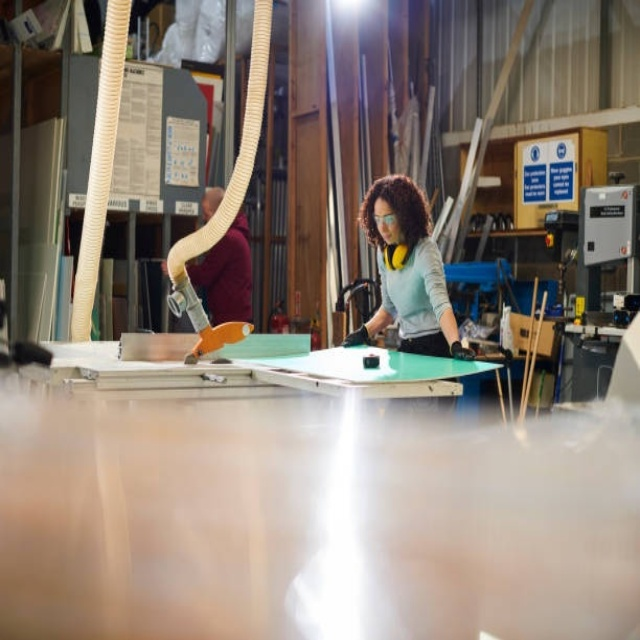Gafas: (373, 212, 397, 225)
Guantes: (342, 323, 374, 348), (449, 340, 477, 361)
Sin_mascara: (380, 227, 396, 244)
